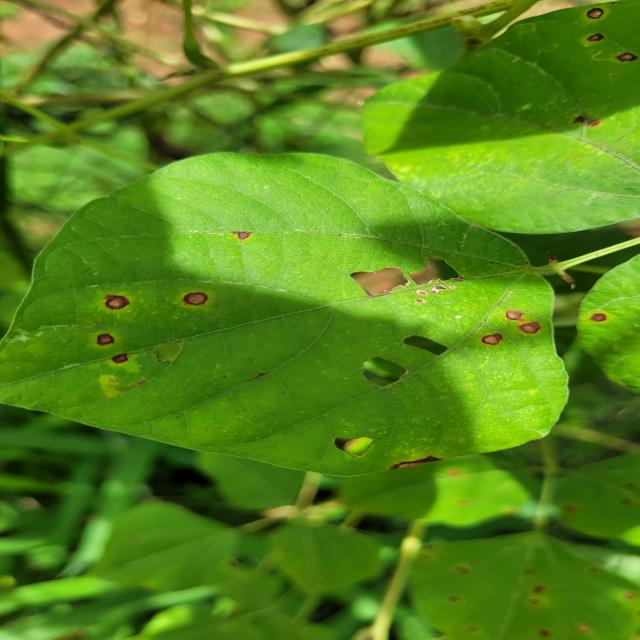Dolicos bean_cercospora leaf spot: (3, 138, 574, 474), (390, 0, 640, 234), (393, 522, 640, 640)
